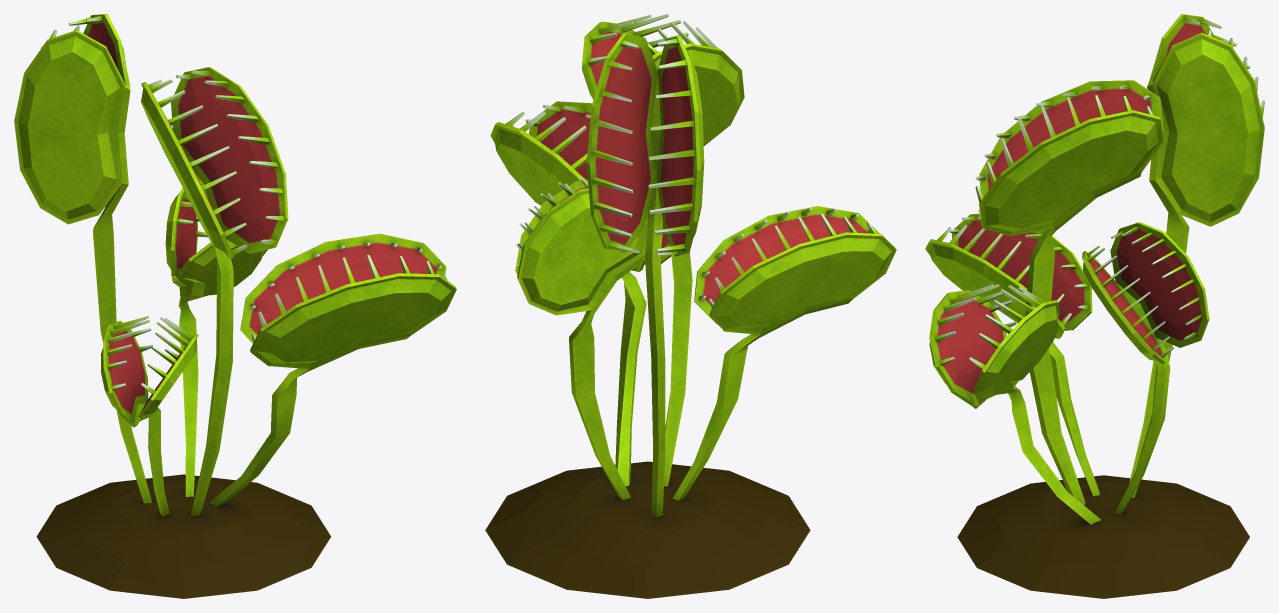
Rendered from Venus_flytrap.glb.
3 renders of one model, left to right at view 1: azimuth 30°, elevation 25°; view 2: azimuth 150°, elevation 25°; view 3: azimuth 270°, elevation 25°, orthographic. The views are drawn at different scales.
Visible parts, largest first — view 1: VenusFlyTrap; view 2: VenusFlyTrap; view 3: VenusFlyTrap.
Boxes of the visible parts, x1,y1,x2,y2 form: VenusFlyTrap: [14, 14, 456, 598]; VenusFlyTrap: [485, 14, 896, 598]; VenusFlyTrap: [925, 14, 1264, 598].
Size of the model in its own units: 8.08 by 10.81 by 6.79.
Materials: 1 (1 with a texture image).
